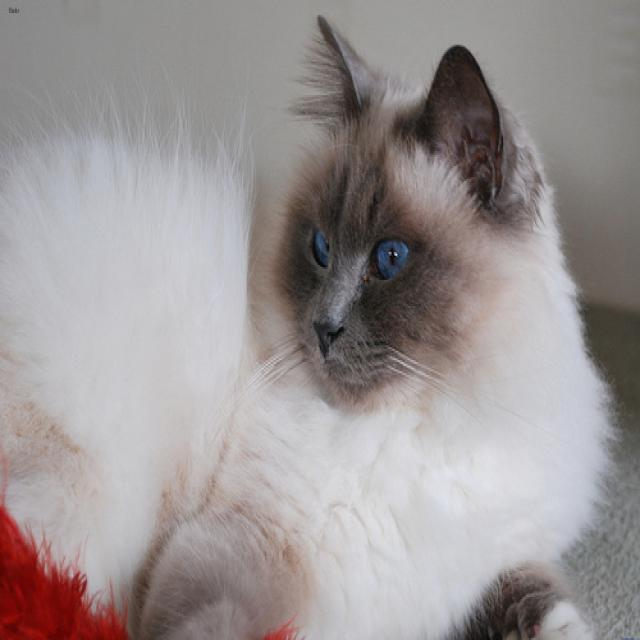cat: (287, 13, 513, 403)
